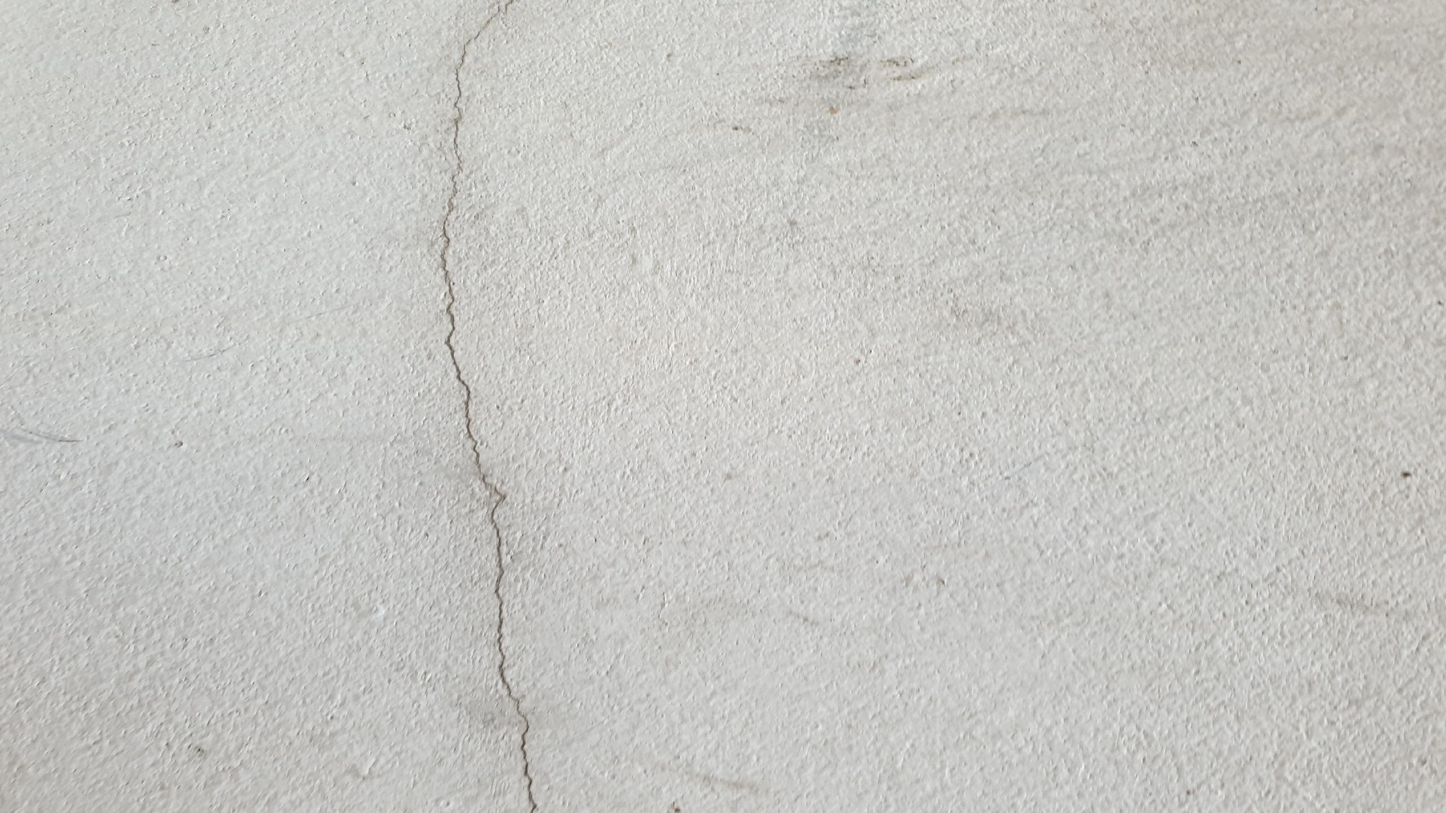crack: (440, 0, 538, 812)
